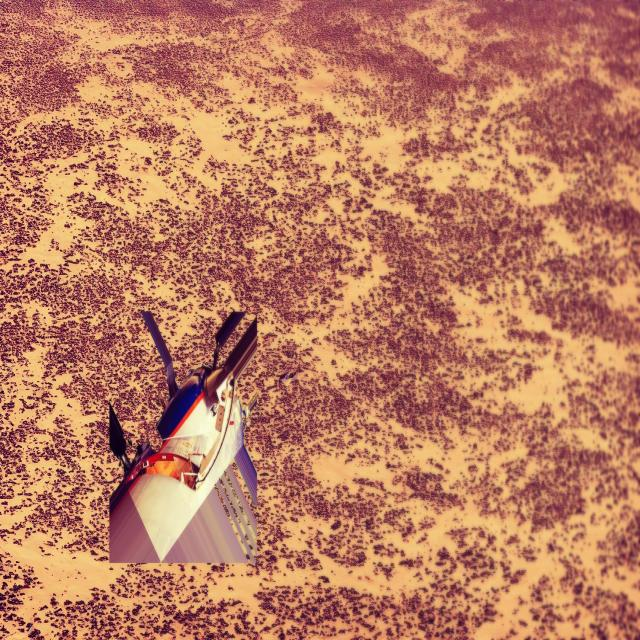airplane: (108, 307, 259, 565)
